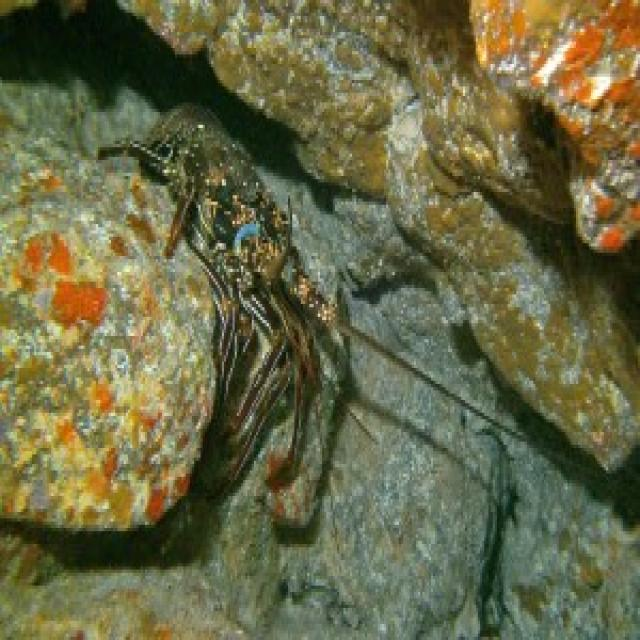lobsters: (98, 55, 458, 514)
